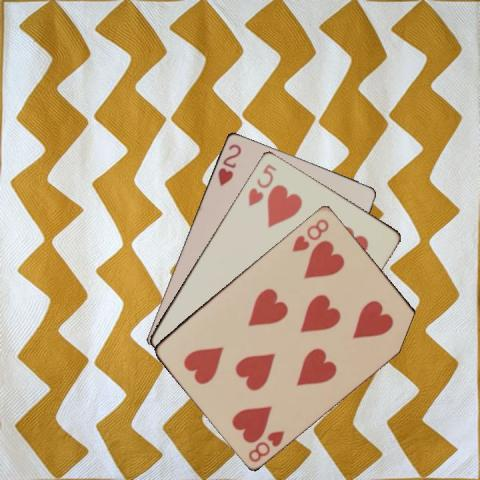2h: (214, 141, 242, 187)
5h: (245, 161, 278, 207)
8h: (288, 216, 330, 253), (245, 427, 287, 463)
